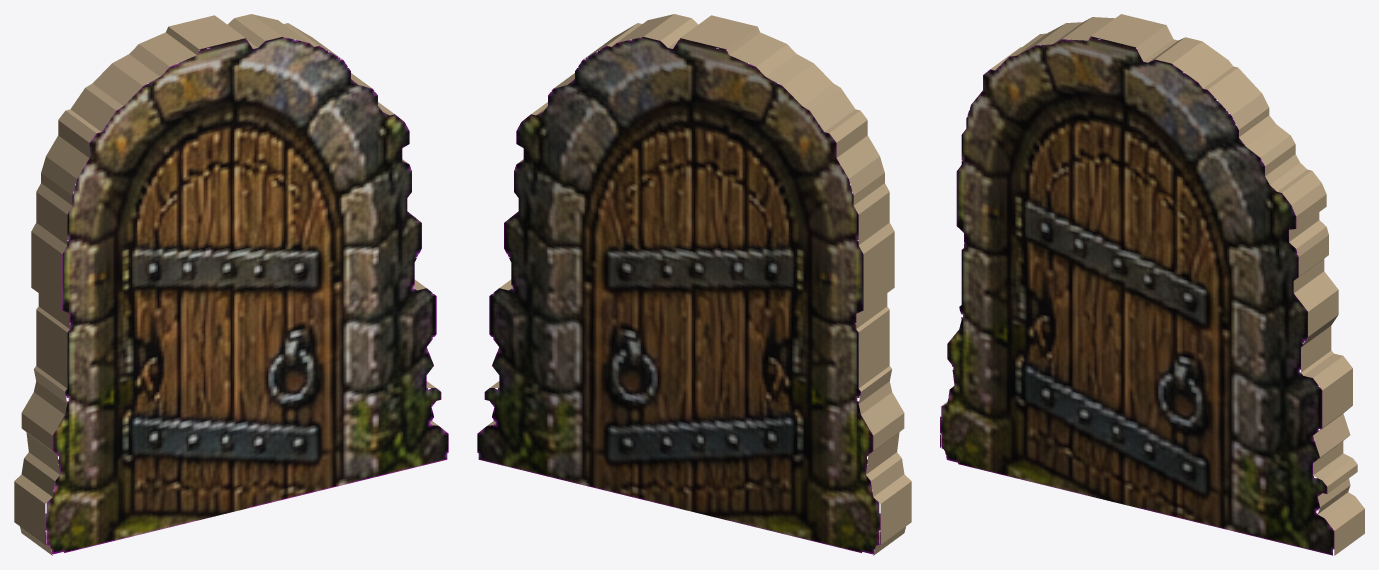
The model's file is fantasy-obj-door-shut.glb.
The picture shows the model from 3 angles, left to right: view 1: azimuth 30°, elevation 25°; view 2: azimuth 150°, elevation 25°; view 3: azimuth 330°, elevation 25°; orthographic projection. The views are drawn at different scales.
Visible parts, largest first — view 1: painted-faces, side-shell; view 2: painted-faces, side-shell; view 3: painted-faces, side-shell.
Part boxes in pixels (x1=…): painted-faces: x1=45, y1=37, x2=448, y2=554; side-shell: x1=14, y1=14, x2=438, y2=555; painted-faces: x1=477, y1=37, x2=880, y2=554; side-shell: x1=487, y1=14, x2=911, y2=555; painted-faces: x1=940, y1=36, x2=1334, y2=555; side-shell: x1=941, y1=14, x2=1364, y2=555.
Size of the model in its own units: 0.8967 by 1 by 0.12.
2 materials, 1 textured.
